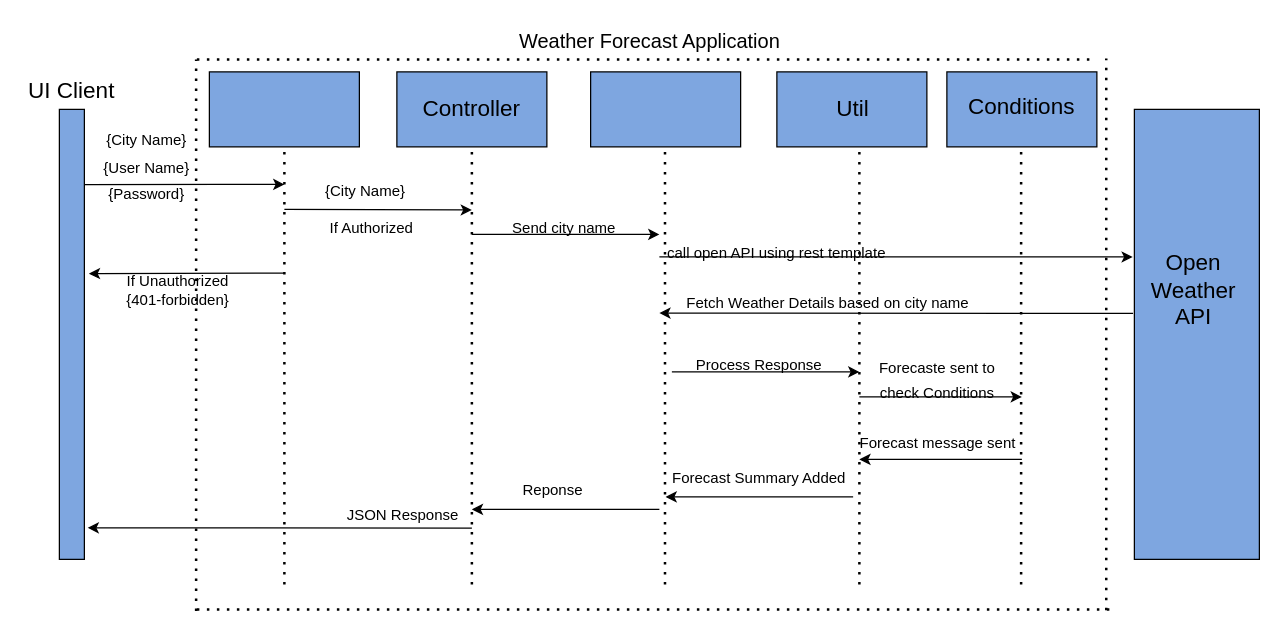
This 1281x635 diagram has some shape labels left out. Here are the shapes that lost their labels. From the top down, the centre of each, then its label:
point 283,109: SecuityConfig
point 665,109: Service
